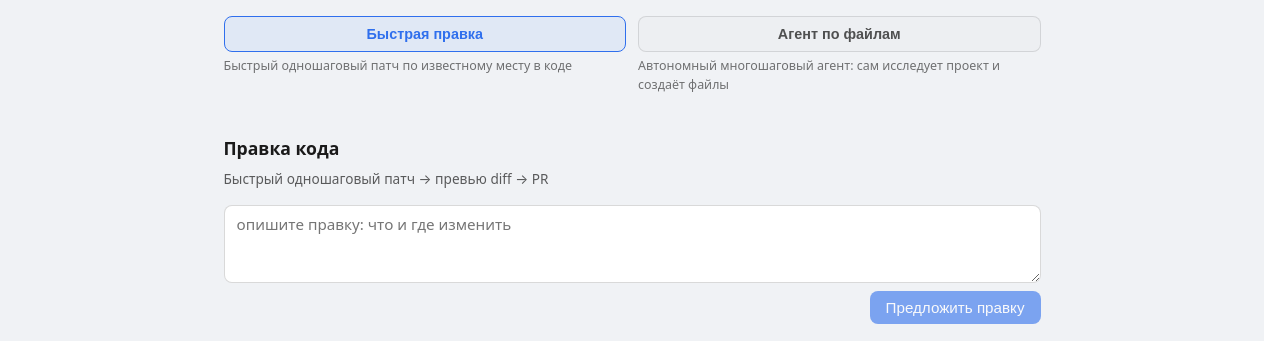
Test: EditsPanel — сегмент-переключатель под-режимов › клик по «Агент по файлам» переключает видимость панелей
This screenshot has width=1264, height=341.
Step 1. Click the tab "Агент по файлам" → (839, 34), box x1=638 y1=16 x2=1040 y2=52
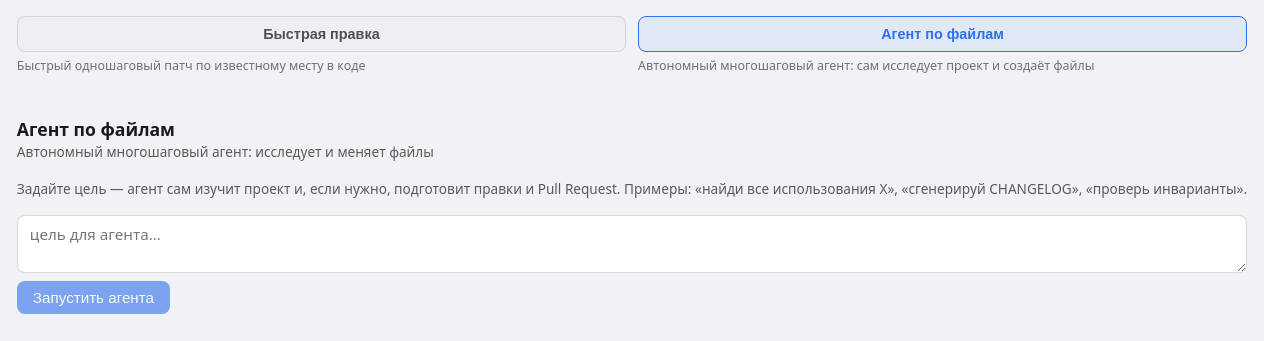
Expected: the heading "Агент по файлам" is shown, x1=17 y1=117 x2=175 y2=141
Expected: the heading "Правка кода" is gone
